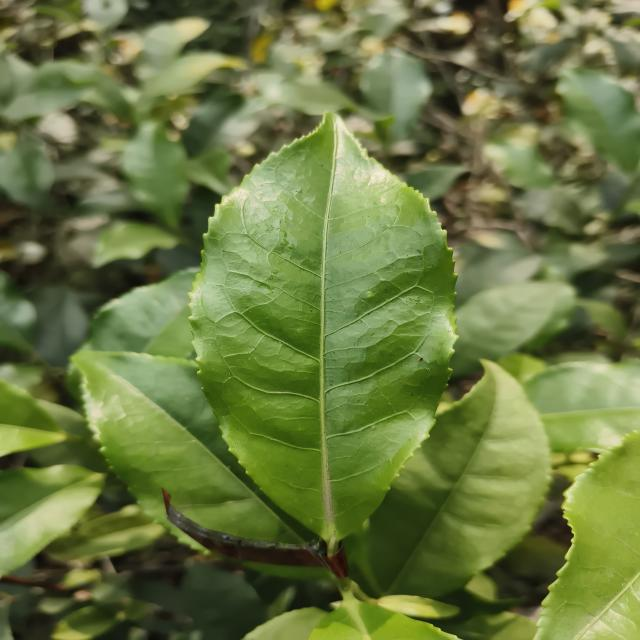Leaf: (190, 114, 455, 546), (73, 351, 317, 551), (360, 360, 550, 597), (535, 431, 640, 640), (0, 465, 104, 575), (81, 266, 199, 359), (524, 359, 640, 452), (451, 283, 552, 375), (556, 69, 640, 173), (1, 61, 129, 120), (122, 121, 189, 227), (48, 504, 165, 562), (360, 48, 432, 142), (181, 561, 265, 640), (0, 379, 66, 456), (143, 52, 246, 97), (32, 286, 88, 368), (0, 134, 54, 208), (92, 221, 178, 267), (257, 74, 353, 115), (143, 18, 209, 70), (485, 142, 553, 189), (0, 271, 37, 351), (406, 164, 466, 202), (186, 147, 231, 195)
